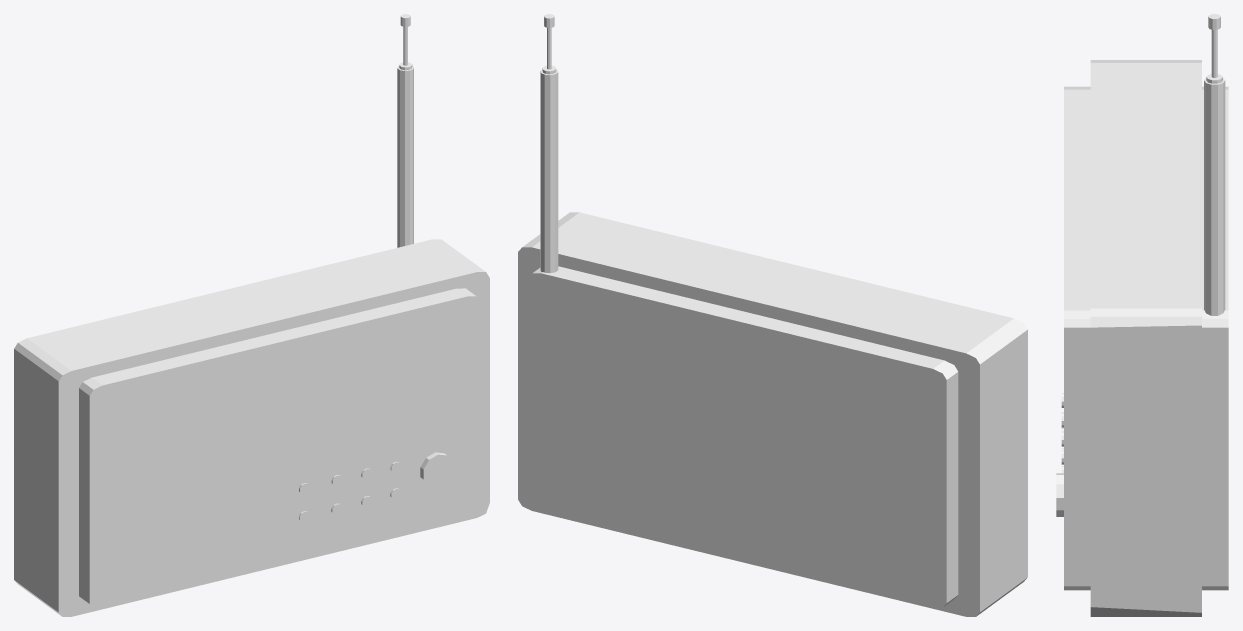
Rendered from f_radio.fbx.
3 renders of one model, left to right at view 1: azimuth 30°, elevation 25°; view 2: azimuth 150°, elevation 25°; view 3: azimuth 270°, elevation 25°, orthographic. The views are drawn at different scales.
Visible parts, largest first — view 1: f_radio; view 2: f_radio; view 3: f_radio.
Boxes of the visible parts, left/top/right/bottom form: f_radio: left=14, top=14, right=489, bottom=616; f_radio: left=518, top=14, right=1027, bottom=616; f_radio: left=1056, top=14, right=1228, bottom=616.
Size of the model in its own units: 0.5972 by 0.1664 by 0.6232.
